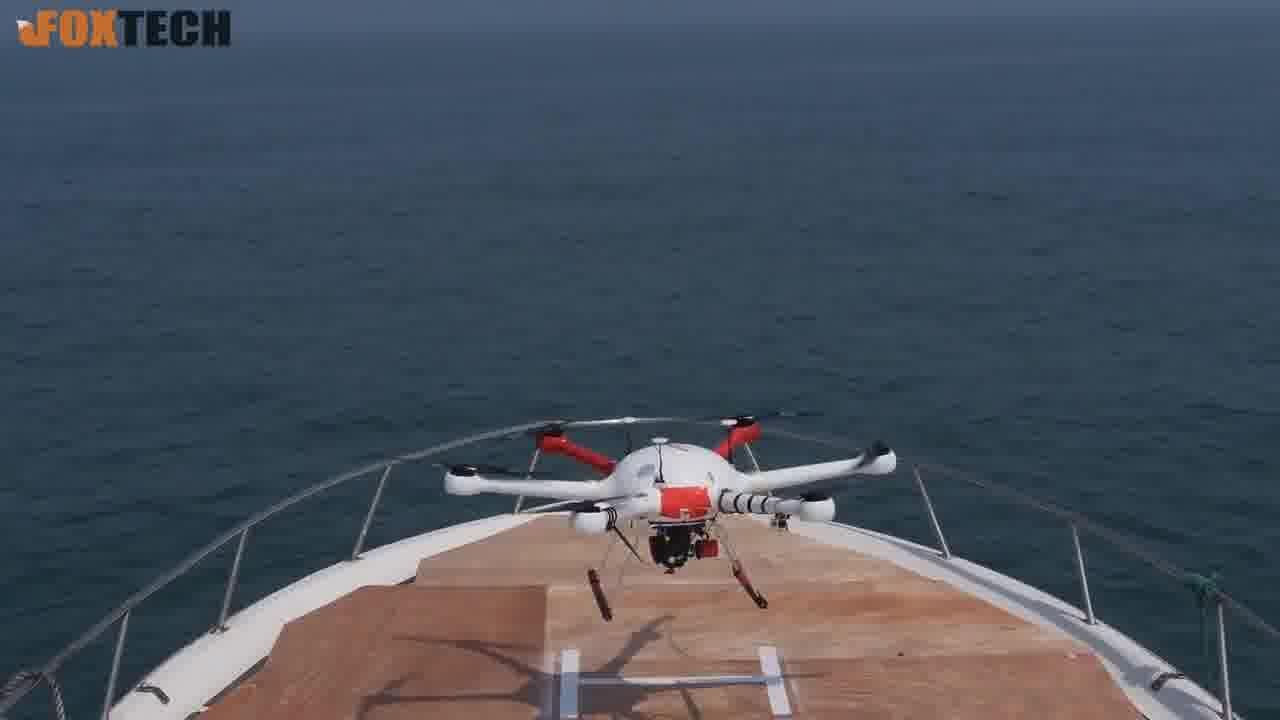drone: (411, 379, 909, 609)
